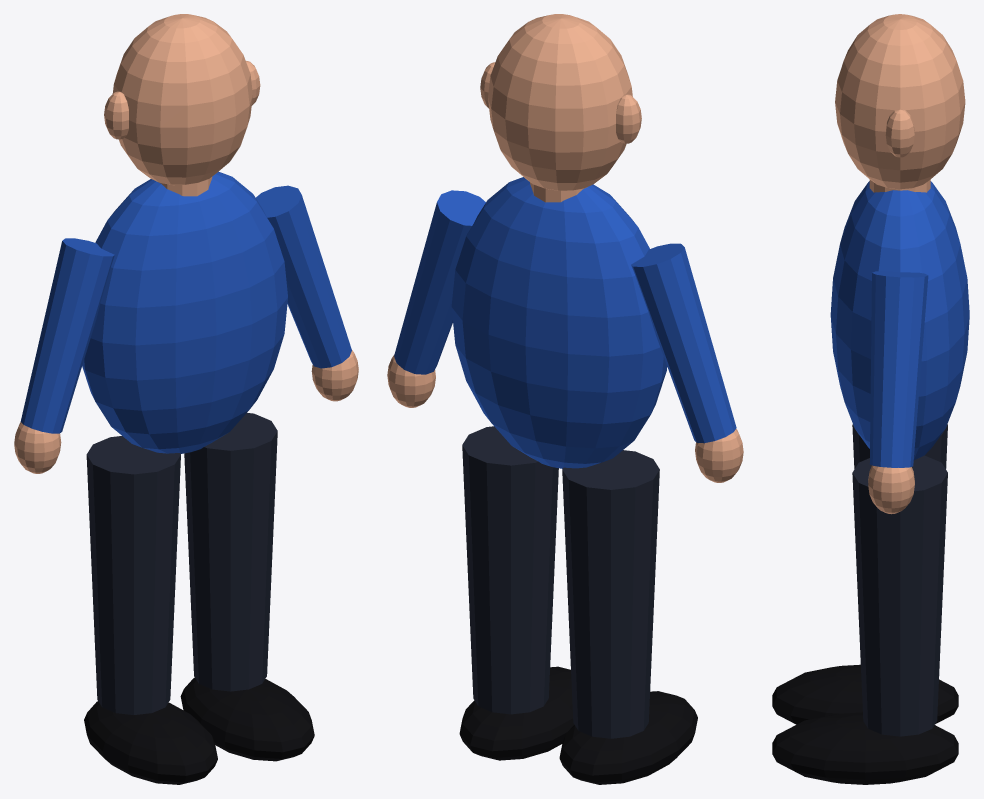
Rendered from Human3D.obj.
3 views of the same model, side by side, from view 1: azimuth 30°, elevation 25°; view 2: azimuth 150°, elevation 25°; view 3: azimuth 270°, elevation 25° (orthographic). The views are drawn at different scales.
Parts seen in each view (by area): view 1: Human3D; view 2: Human3D; view 3: Human3D.
Boxes of the visible parts, x1,y1,x2,y2 form: Human3D: (14,14,358,784); Human3D: (387,14,743,784); Human3D: (772,14,969,784).
Size of the model in its own units: 0.91 by 1.86 by 0.4545.
